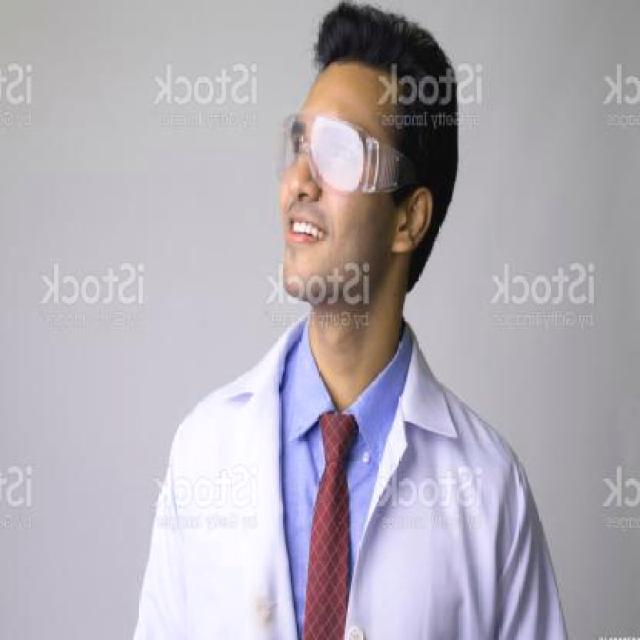face_nomask: (270, 120, 365, 265)
glasses: (275, 109, 430, 206)
head_nohelmet: (308, 0, 450, 109)
person: (122, 9, 535, 638)
